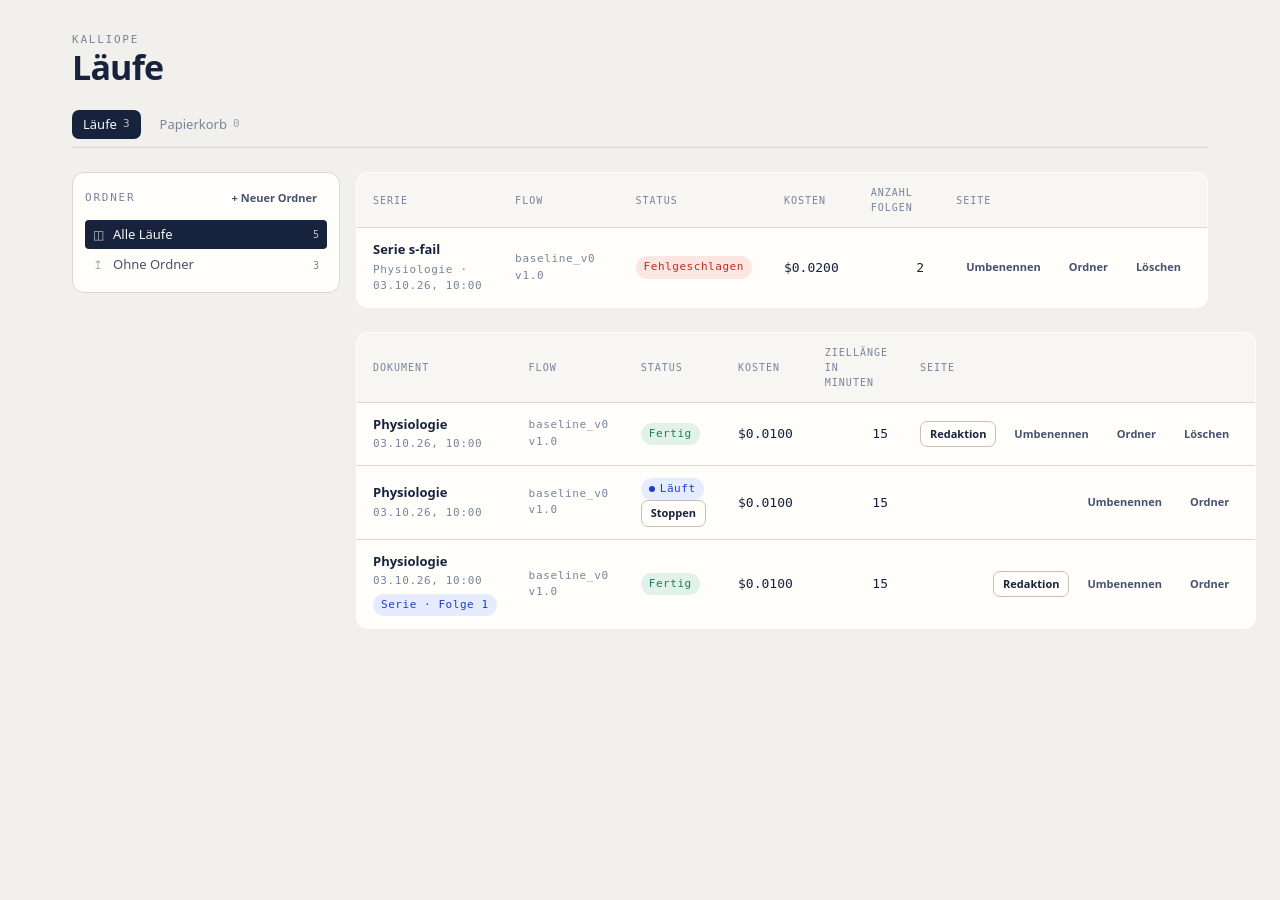
runs trash › moves a series to the trash from its own row
The image size is (1280, 900).
Click the button "Löschen" in the row of "Serie s-fail": (1158, 268) [1126,254,1191,281]
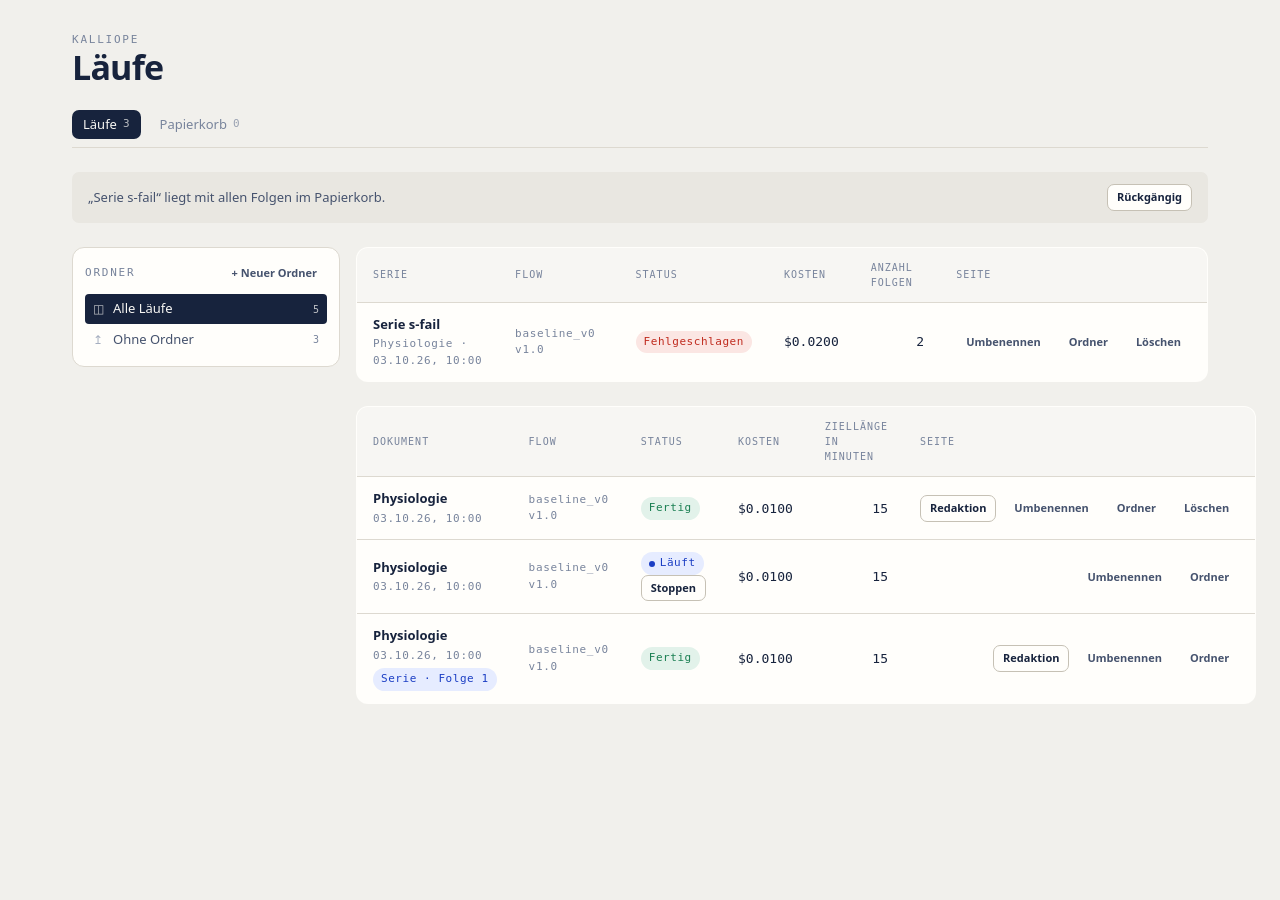
Check: the message "„Serie s-fail“ liegt mit allen Folgen im Papierkorb. Rückgängig" is shown, box [72,172,1208,223]
